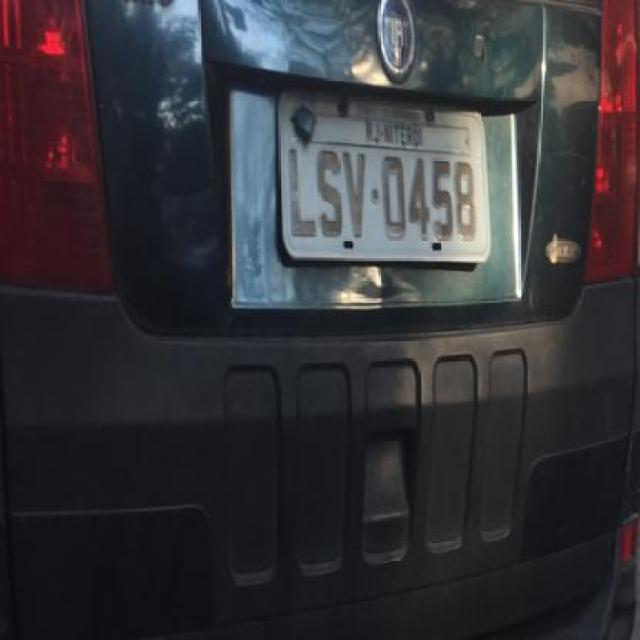old_plate: (268, 81, 500, 271)
